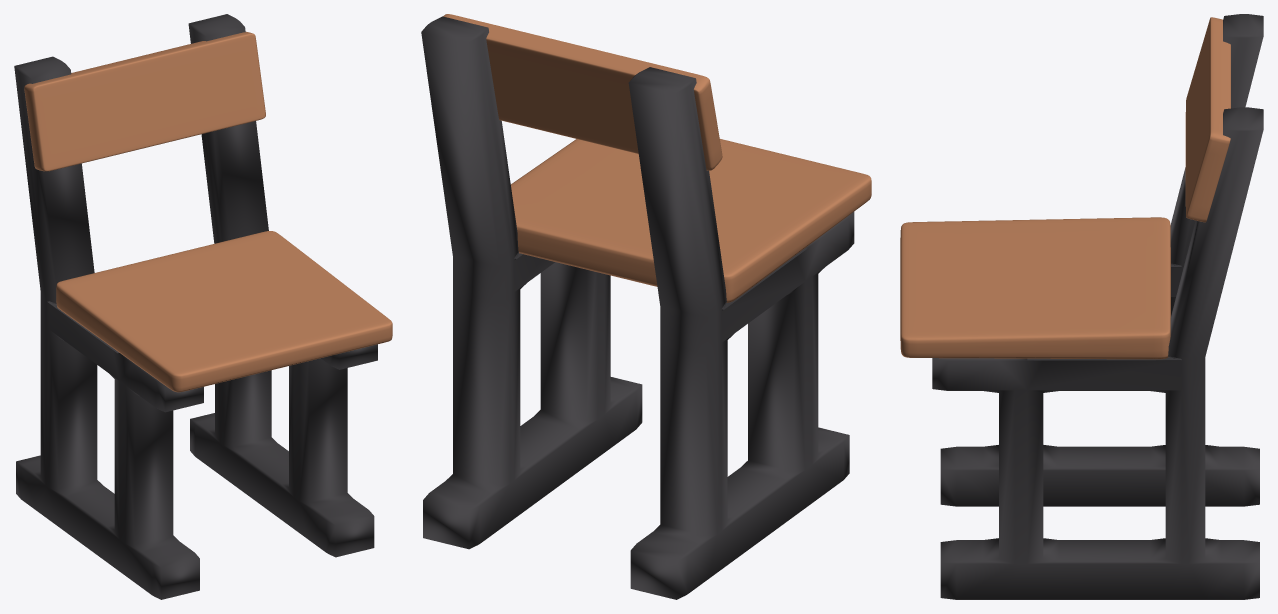
File: school_chair.glb
The picture shows the model from 3 angles, left to right: view 1: azimuth 30°, elevation 25°; view 2: azimuth 150°, elevation 25°; view 3: azimuth 270°, elevation 25°; orthographic projection. The views are drawn at different scales.
Parts seen in each view (by area): view 1: school_chair; view 2: school_chair; view 3: school_chair.
Boxes of the visible parts, x1=… form: school_chair: x1=14, y1=14, x2=392, y2=599; school_chair: x1=421, y1=14, x2=871, y2=599; school_chair: x1=900, y1=14, x2=1263, y2=599.
Bounding box in the file's own units: 0.323 × 0.5896 × 0.4112.
